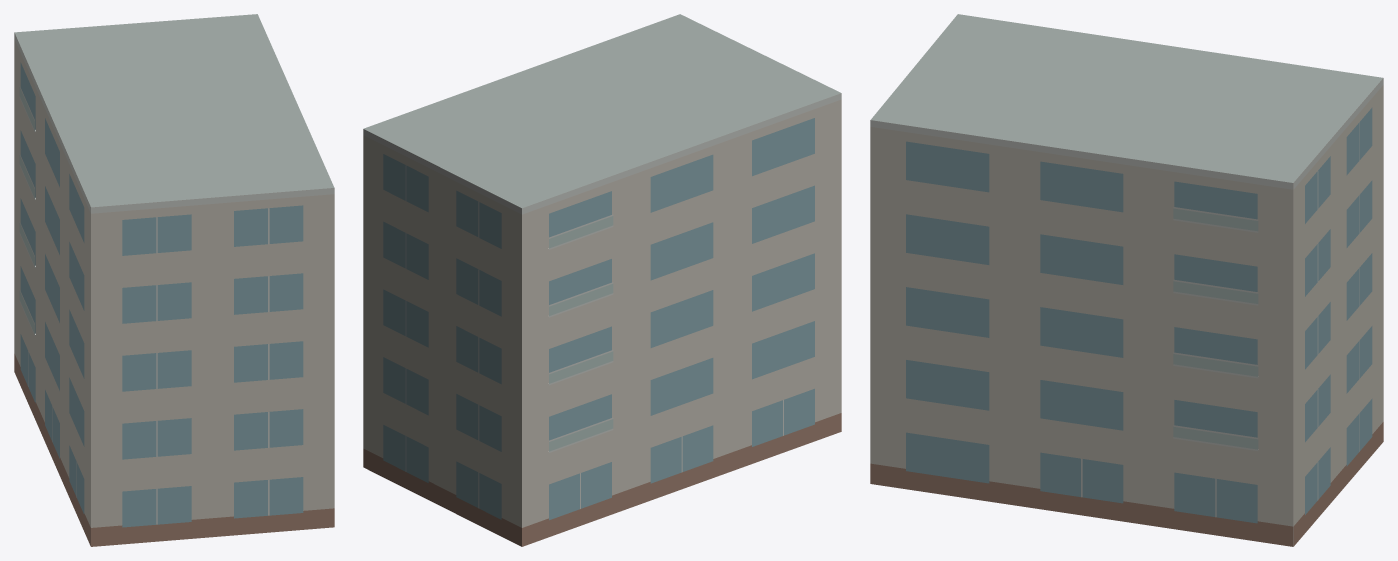
File: survey-upis-32893662.glb
3 views of the same model, side by side, from view 1: azimuth 30°, elevation 25°; view 2: azimuth 150°, elevation 25°; view 3: azimuth 270°, elevation 25° (orthographic). The views are drawn at different scales.
Parts seen in each view (by area): view 1: survey-upis-32893662.tmp; view 2: survey-upis-32893662.tmp; view 3: survey-upis-32893662.tmp.
Boxes of the visible parts, x1,y1,x2,y2 form: survey-upis-32893662.tmp: [14, 14, 334, 546]; survey-upis-32893662.tmp: [363, 14, 841, 546]; survey-upis-32893662.tmp: [870, 14, 1383, 546].
Bounding box in the file's own units: 13.06 × 13.1 × 16.75.
